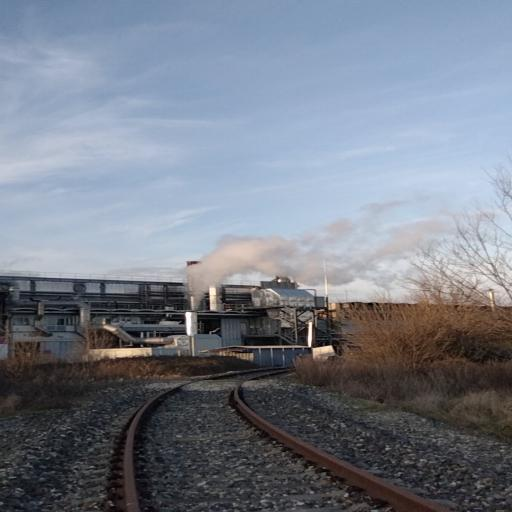leakage: (175, 194, 480, 312)
